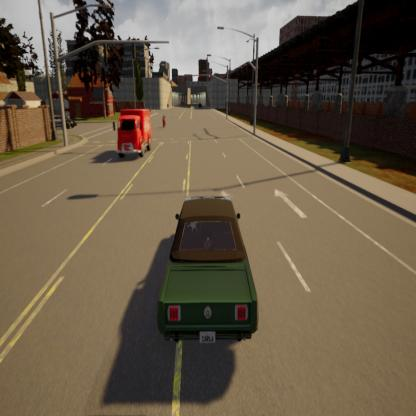Cars: (160, 185, 264, 352), (114, 103, 156, 161)
